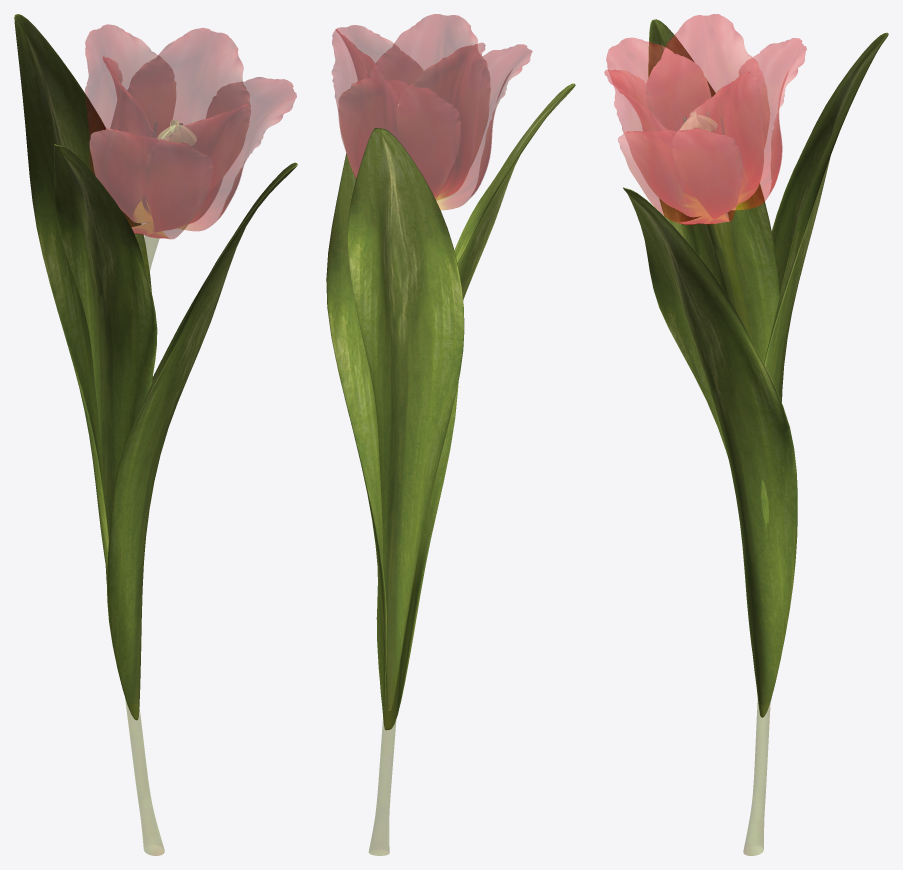
3 renders of one model, left to right at view 1: azimuth 30°, elevation 25°; view 2: azimuth 150°, elevation 25°; view 3: azimuth 270°, elevation 25°, orthographic. The views are drawn at different scales.
Parts seen in each view (by area): view 1: 12978_tulip_flower_l3; view 2: 12978_tulip_flower_l3; view 3: 12978_tulip_flower_l3.
Part boxes in pixels (left/top/right/bottom): 12978_tulip_flower_l3: left=14, top=14, right=297, bottom=855; 12978_tulip_flower_l3: left=326, top=14, right=575, bottom=855; 12978_tulip_flower_l3: left=604, top=14, right=888, bottom=855.
Size of the model in its own units: 5.11 by 16.84 by 5.39.
Materials: 3 (3 with a texture image).
